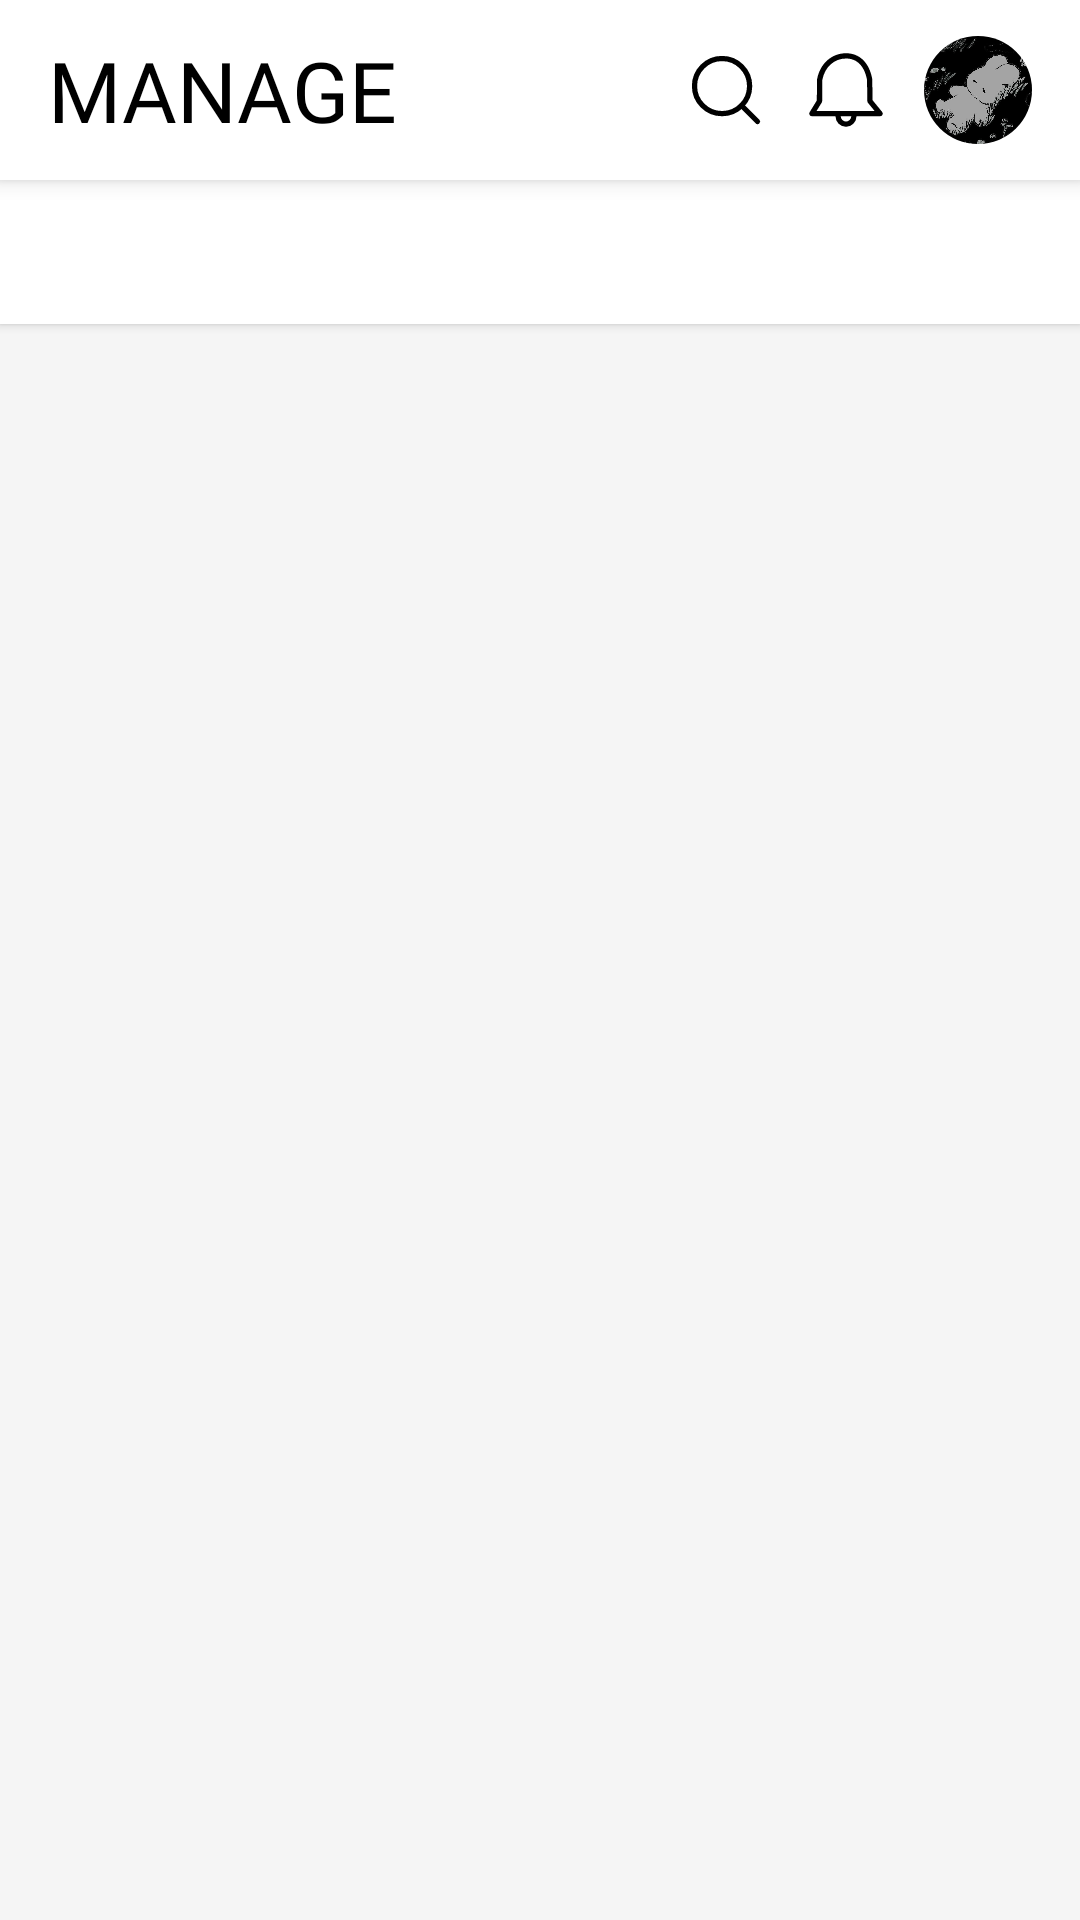

Locate icon controls on the screen. Image size 1080 x 1920, boxes as (x1, y1, x2, y2).
Notifications: (809, 53, 883, 127)
Search: (692, 56, 761, 125)
